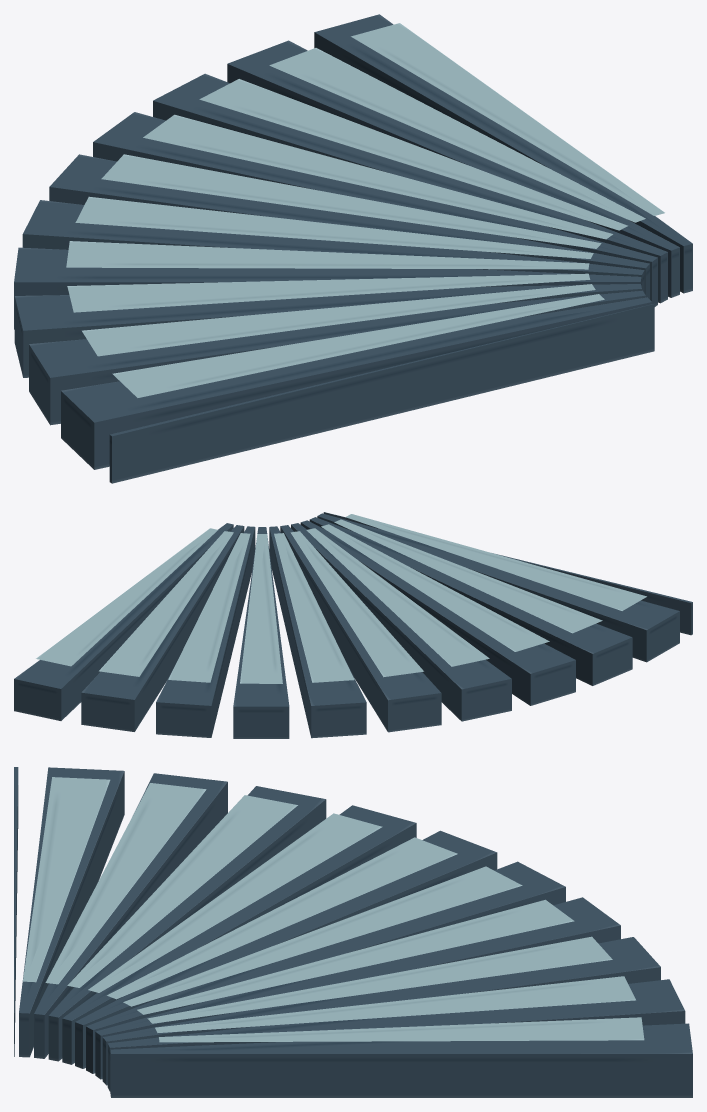
File: sc_tread_curve_right_23.obj
3 views of the same model, one above another, from view 1: azimuth 30°, elevation 25°; view 2: azimuth 150°, elevation 25°; view 3: azimuth 270°, elevation 25° (orthographic). The views are drawn at different scales.
Bounding box in the file's own units: 17.5 × 1.56 × 17.5.
Materials: 1 (1 with a texture image).
